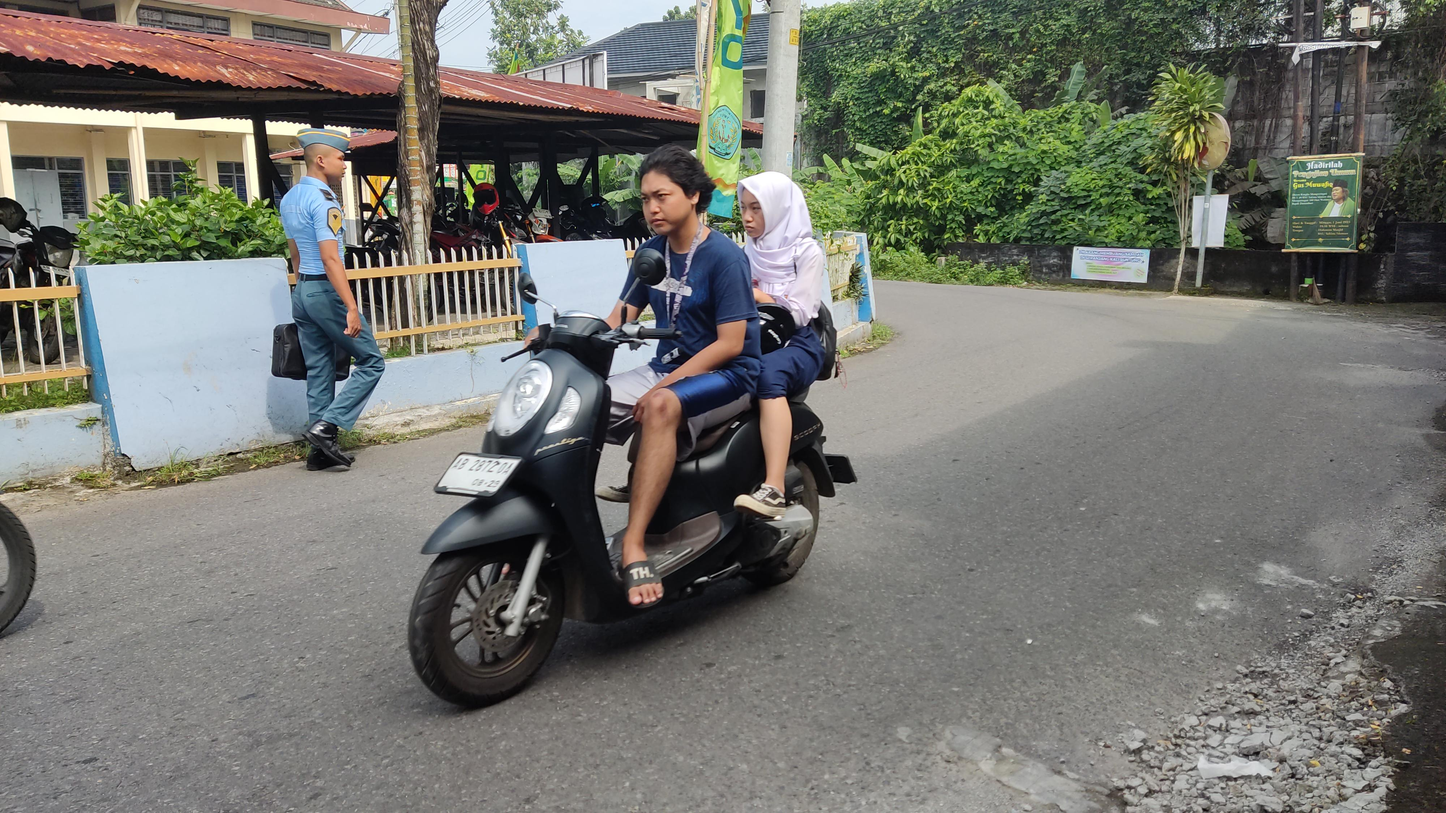nohelm: (634, 142, 718, 236), (734, 170, 806, 242)
riding: (405, 140, 865, 711)
